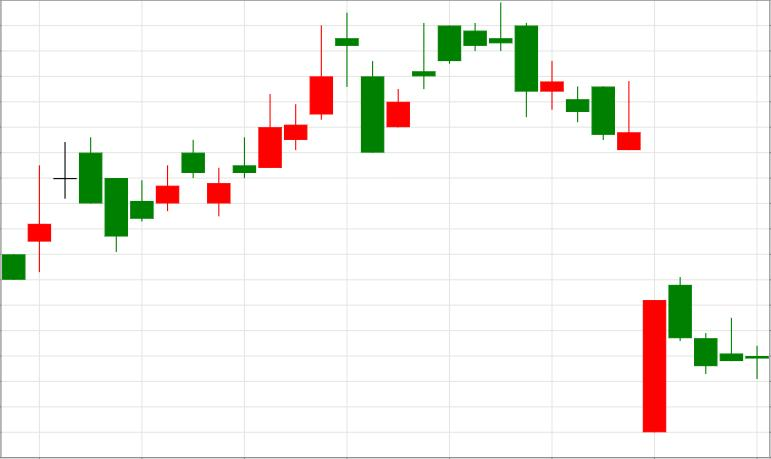evening_star_fall: (207, 12, 384, 216)
shooting_star_fall: (207, 25, 334, 216)
